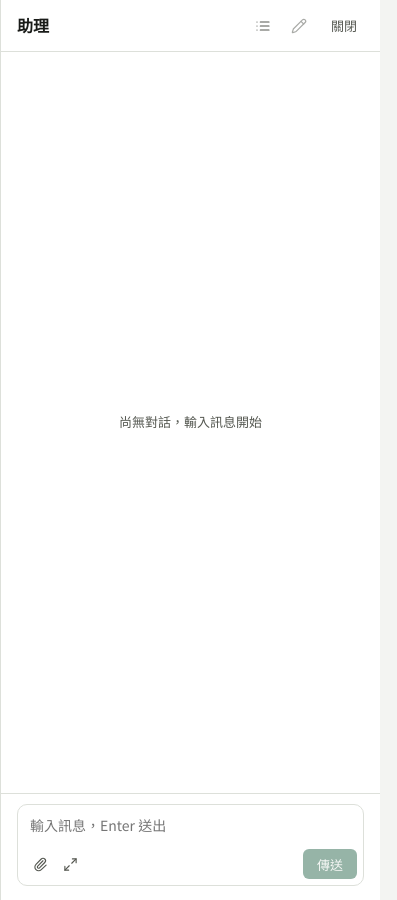
Test: history search filters sessions by title
Click the button named "歷史紀錄" at (263, 26), box [248, 10, 278, 40]
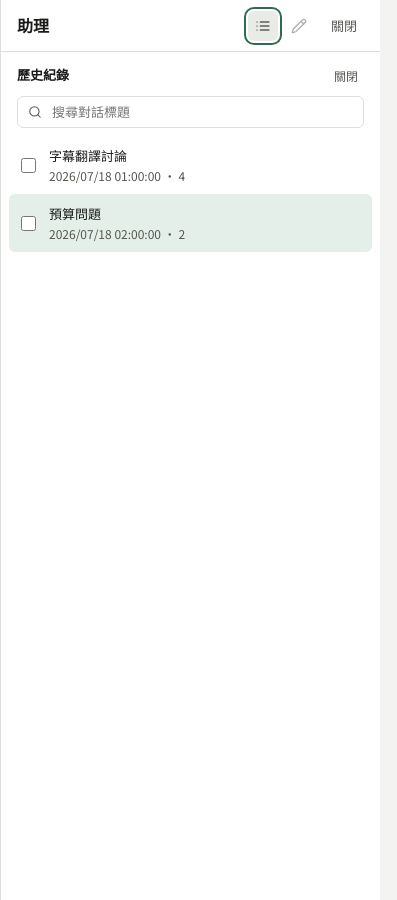
Expected: the text "字幕翻譯討論" is shown, [49, 146, 127, 165]
Expected: the text "預算問題" is shown, [49, 204, 101, 223]
Type "預算" into the field with placeholder "搜尋對話標題" at (202, 112), box [50, 101, 353, 123]
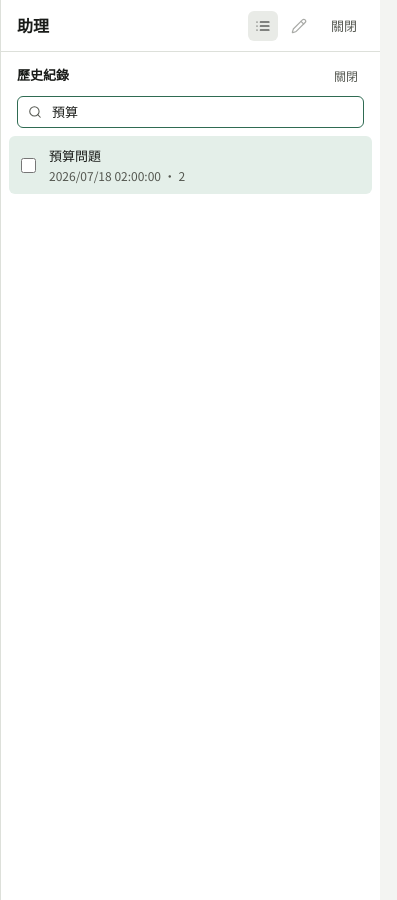
Expected: the text "預算問題" is shown, [49, 146, 101, 165]
Expected: the button "字幕翻譯討論" is gone
Replace the text in the field with placeholder "搜尋對話標題" with "不存在的標題" at (202, 112), box [50, 101, 353, 123]
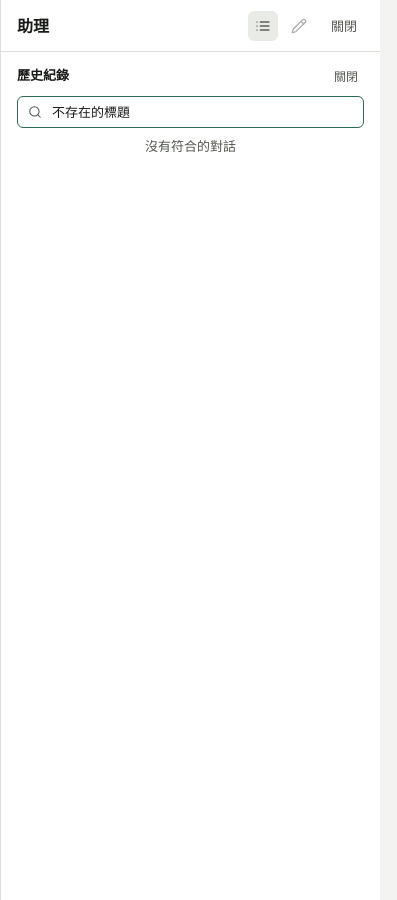
Expected: the text "沒有符合的對話" is shown, [145, 136, 236, 155]
